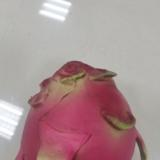pitaya: (16, 61, 147, 160)
